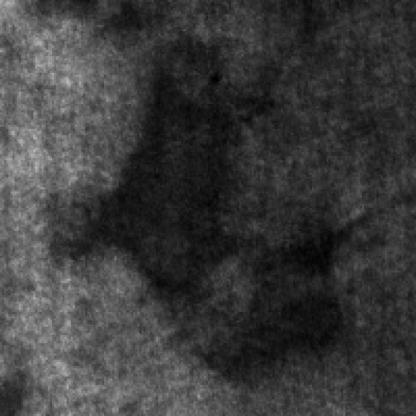patches: (66, 23, 276, 316), (187, 262, 364, 385)
